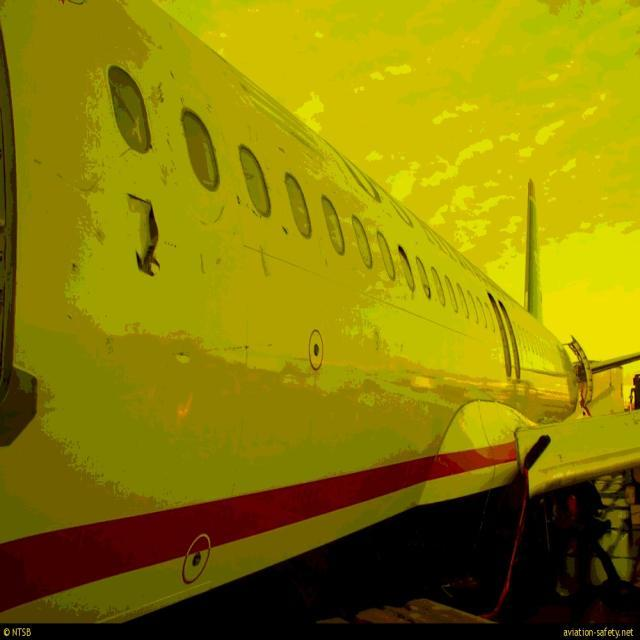crack: (116, 183, 166, 288)
